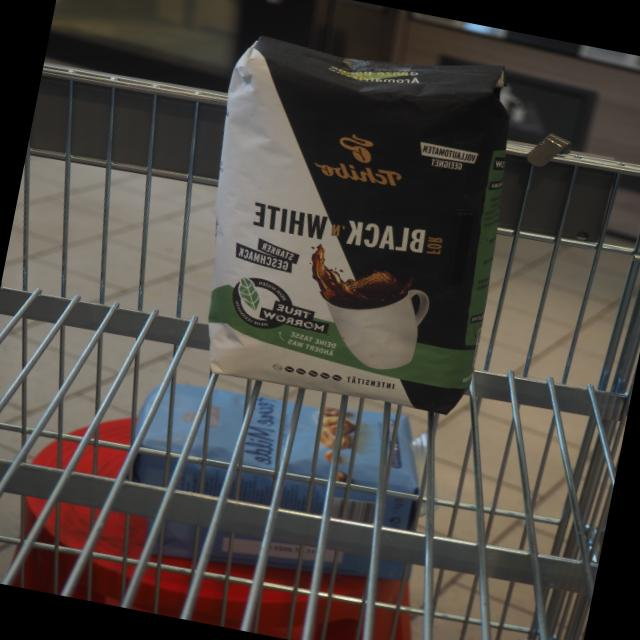BW Bohne: (167, 7, 542, 427)
